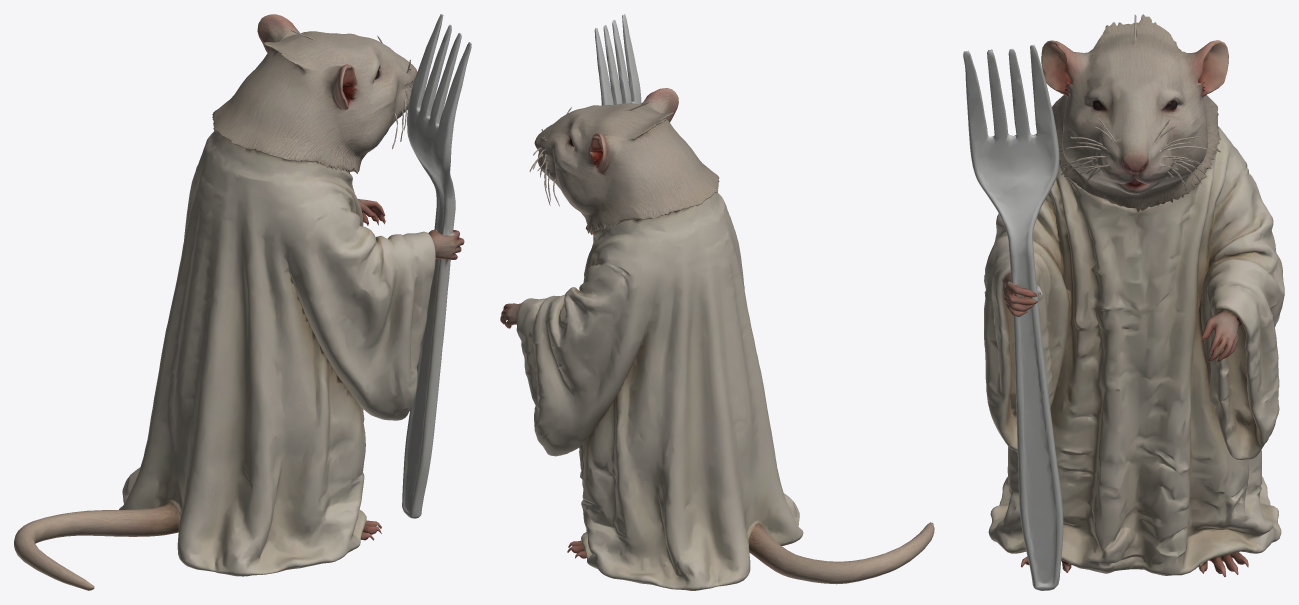
File: sw_cantor.glb
The picture shows the model from 3 angles, left to right: view 1: azimuth 30°, elevation 25°; view 2: azimuth 150°, elevation 25°; view 3: azimuth 270°, elevation 25°; orthographic projection. The views are drawn at different scales.
Visible parts, largest first — view 1: tripo_node_9af61d6e-7071-4179-b912-603926679b49; view 2: tripo_node_9af61d6e-7071-4179-b912-603926679b49; view 3: tripo_node_9af61d6e-7071-4179-b912-603926679b49.
Boxes of the visible parts, x1,y1,x2,y2 form: tripo_node_9af61d6e-7071-4179-b912-603926679b49: (14, 14, 471, 590); tripo_node_9af61d6e-7071-4179-b912-603926679b49: (500, 14, 934, 590); tripo_node_9af61d6e-7071-4179-b912-603926679b49: (963, 14, 1284, 590).
Bounding box in the file's own units: 0.8497 × 1 × 0.5171.
Materials: 1 (1 with a texture image).
